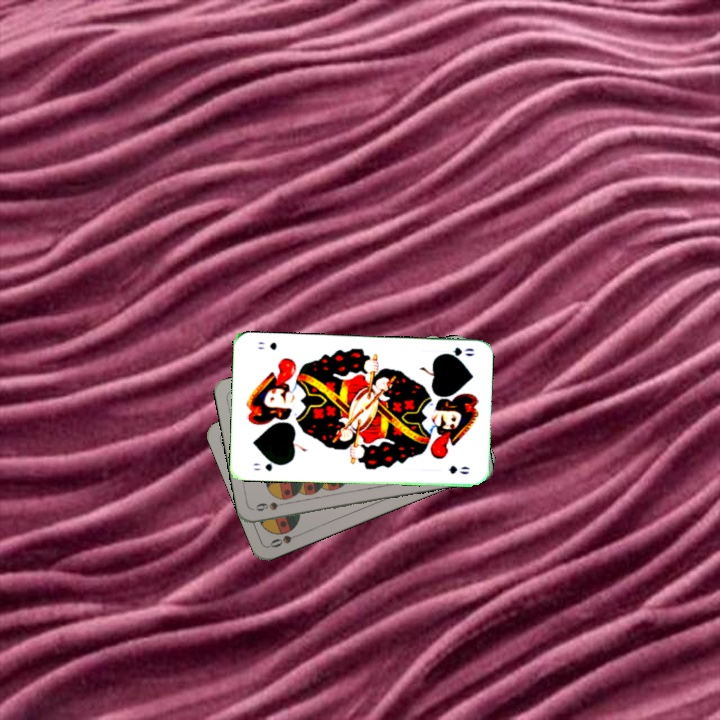GO: (436, 343, 477, 361), (249, 457, 285, 474)
S9: (251, 498, 291, 514)
SO: (266, 529, 305, 550)
